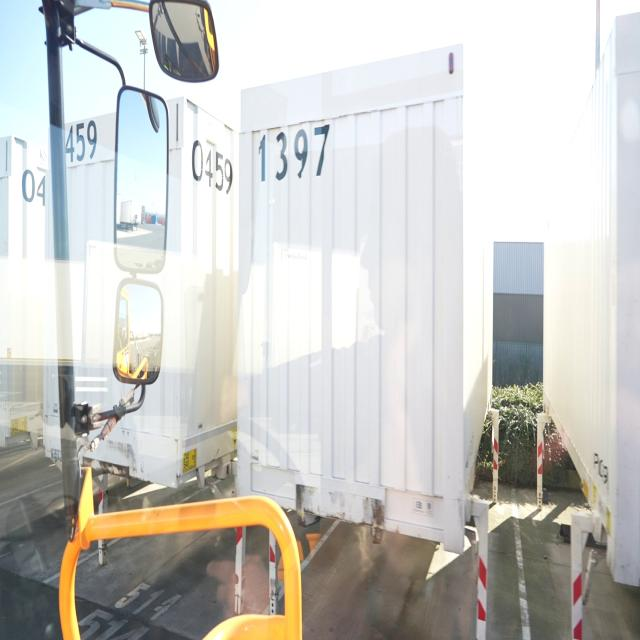Code: (252, 114, 333, 190), (192, 130, 232, 203)
